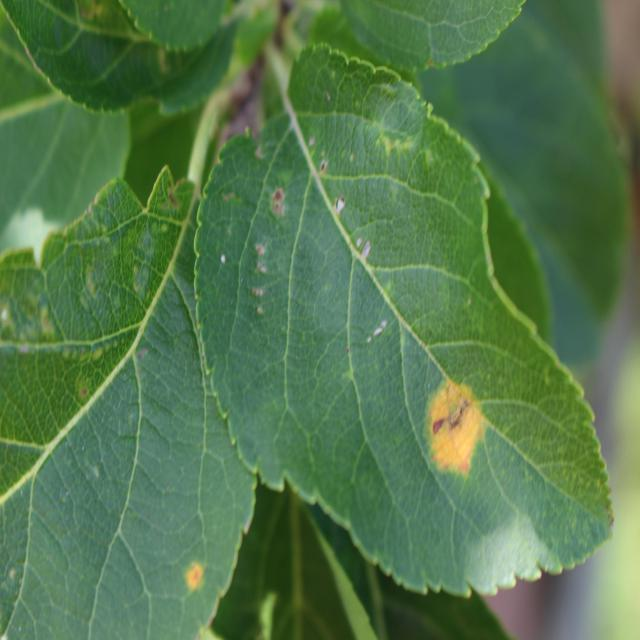Rust: (407, 337, 496, 499), (174, 546, 214, 605)
